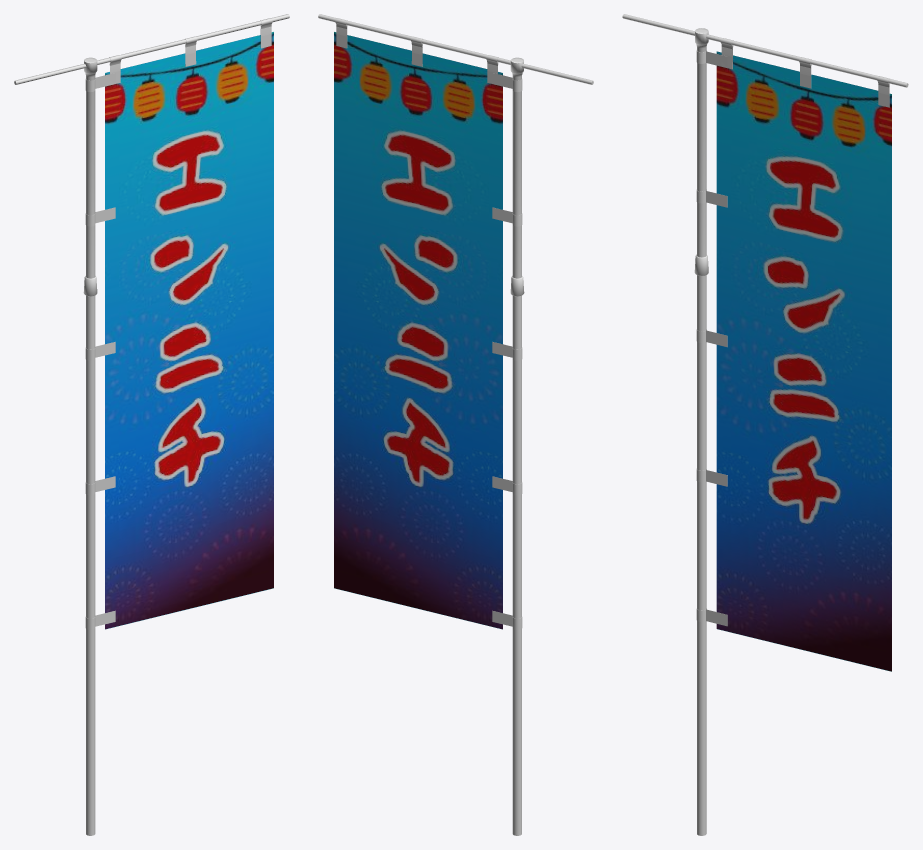
Rendered from Nobori_1.fbx.
3 renders of one model, left to right at view 1: azimuth 30°, elevation 25°; view 2: azimuth 150°, elevation 25°; view 3: azimuth 330°, elevation 25°, orthographic. The views are drawn at different scales.
Visible parts, largest first — view 1: 円柱; view 2: 円柱; view 3: 円柱.
Part boxes in pixels (x1=…): 円柱: x1=14, y1=14, x2=289, y2=835; 円柱: x1=318, y1=14, x2=593, y2=835; 円柱: x1=622, y1=14, x2=908, y2=835.
Size of the model in its own units: 122 by 330 by 5.28.
Materials: 3 (1 with a texture image).
